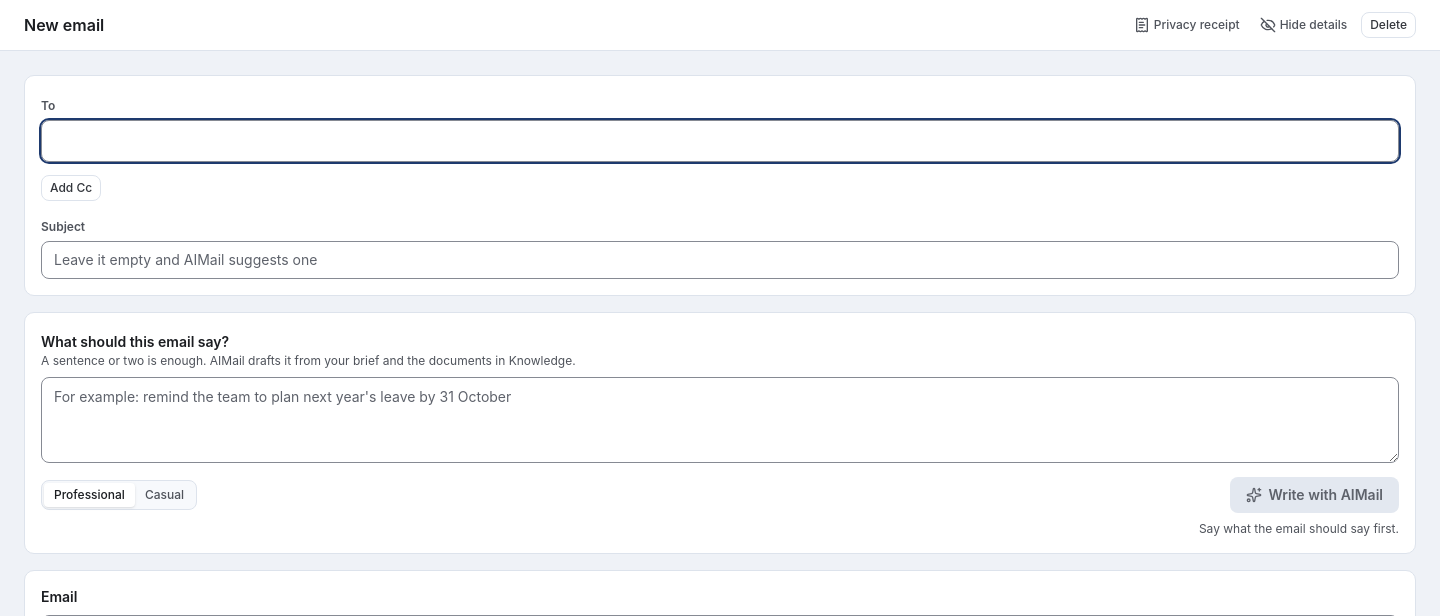
Test case: autosave › waits for a pause in typing, then saves only what changed
This screenshot has width=1440, height=616.
Expected: the text box labelled "What should this email say?" is shown, [41, 377, 1399, 463]
In the field labelled "Subject": (720, 260) [41, 241, 1399, 279], type "Lea"
Wait 500 ms
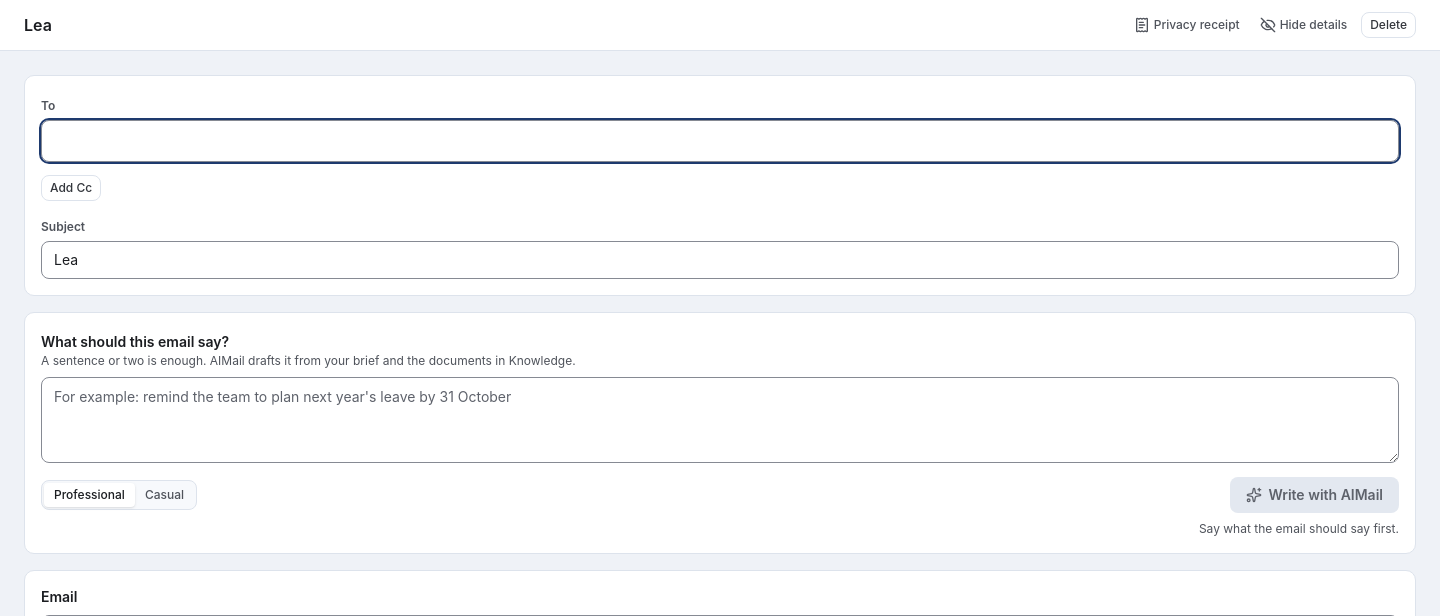
Replace the text in the field labelled "Subject" with "Leave": (720, 260) [41, 241, 1399, 279]
Wait 1200 ms
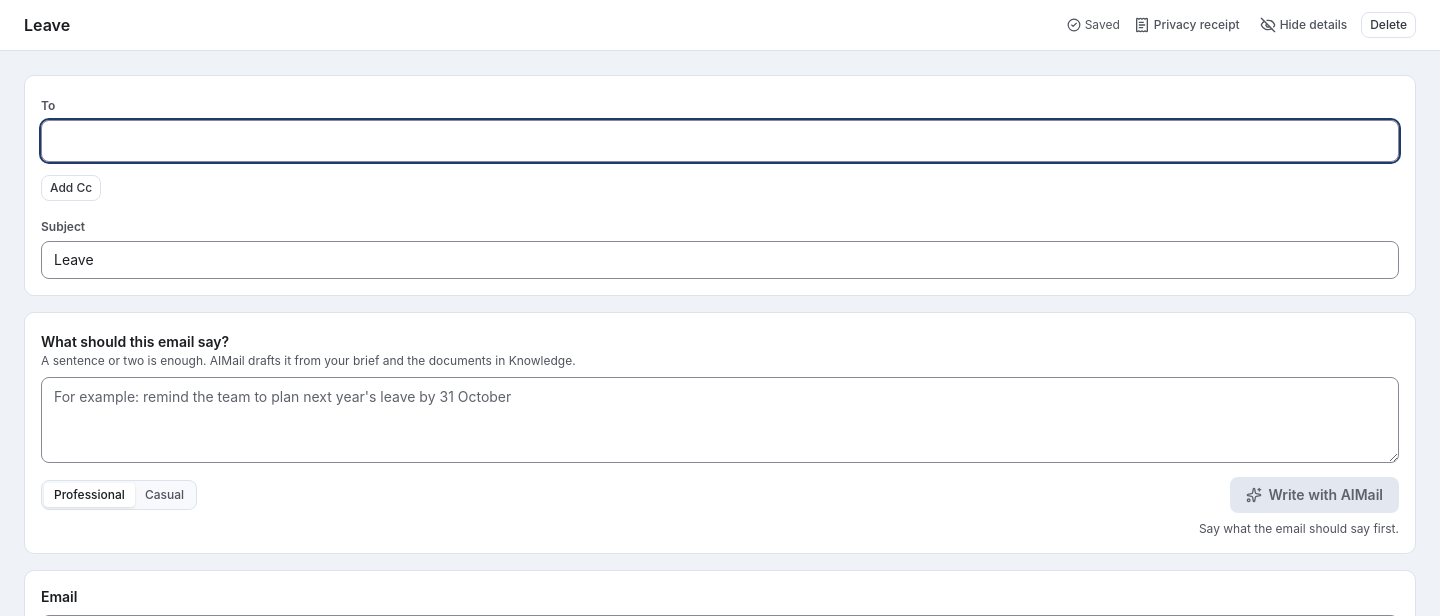
Expected: the text "Saved" is shown, [1067, 17, 1120, 33]
